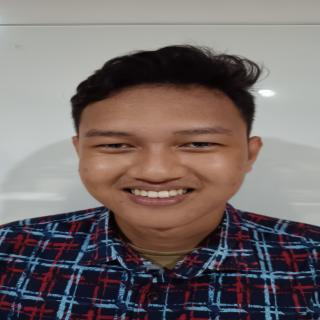Senang: (74, 77, 258, 234)
